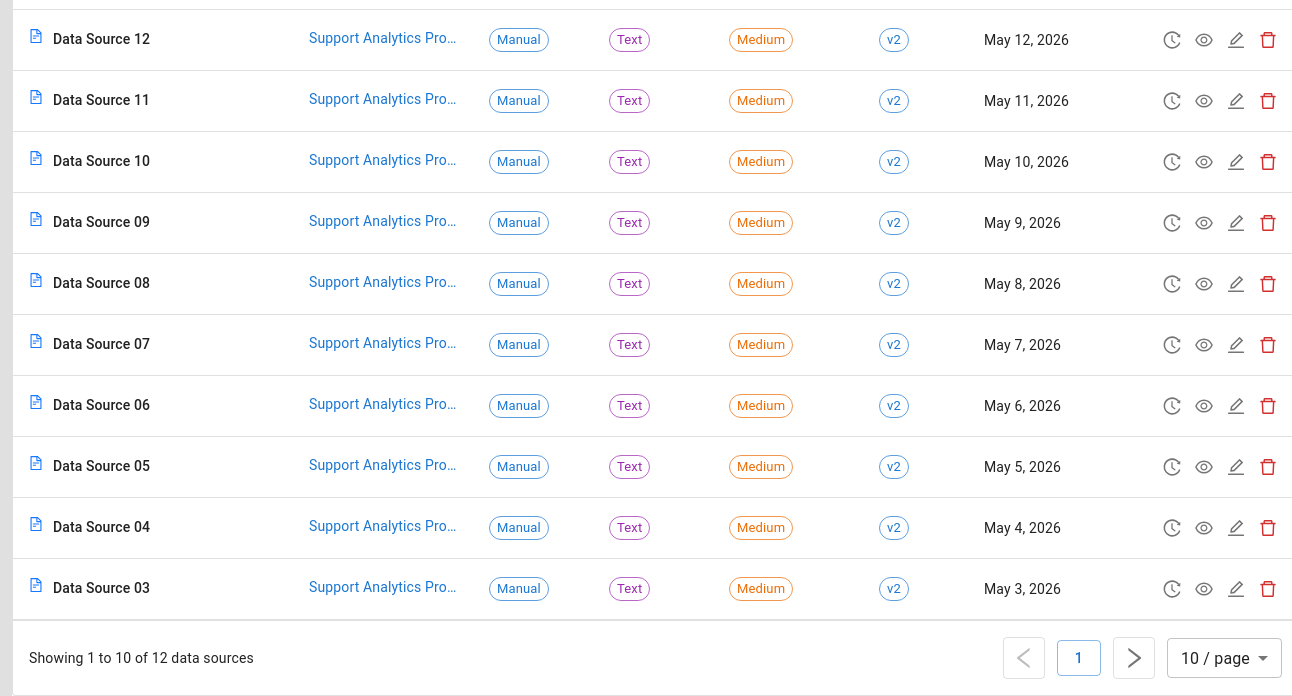
DataSources page › paginates the main data sources table
(page scrolled)
Expected: the text "Showing 1 to 10 of 12 data sources" is shown, [29,648,254,668]
Expected: the text "Data Source 01" is not shown
Click the button named "Next page" at (1134, 658), box [1113,637,1155,679]
(page scrolled)
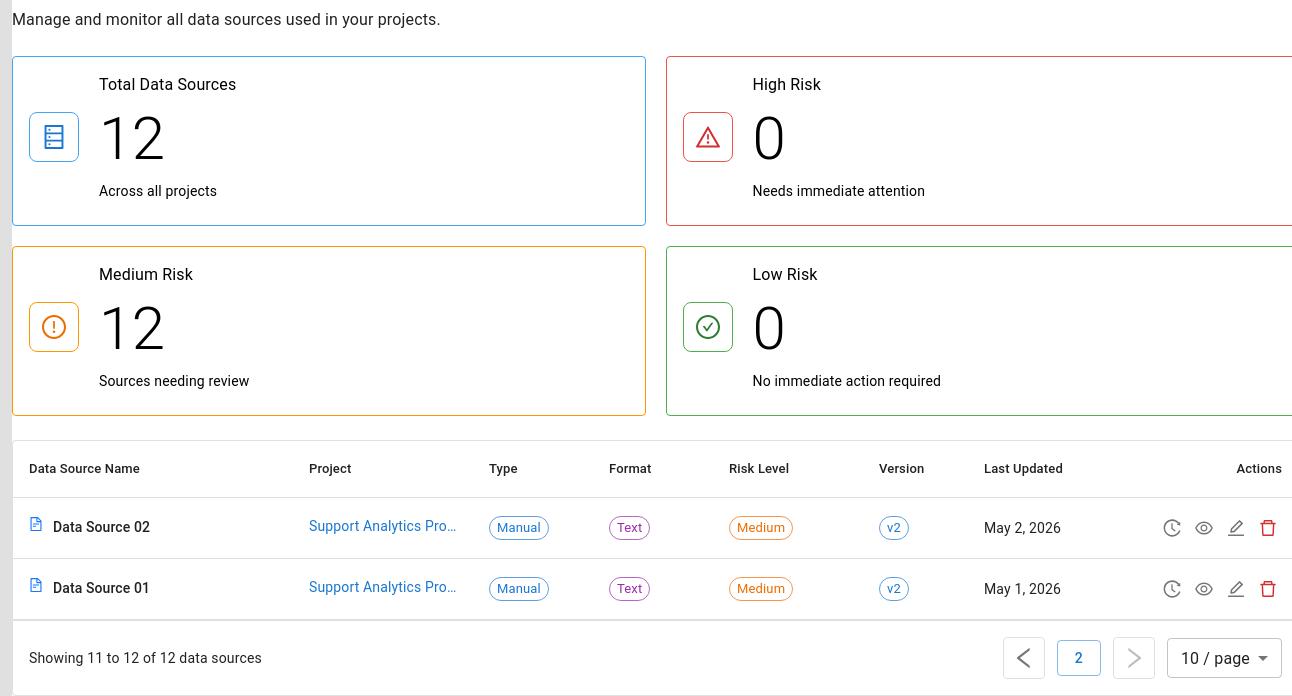
Expected: the text "Showing 11 to 12 of 12 data sources" is shown, [29,648,262,668]
Expected: the heading "Data Source 01" is shown, [53,578,150,600]
